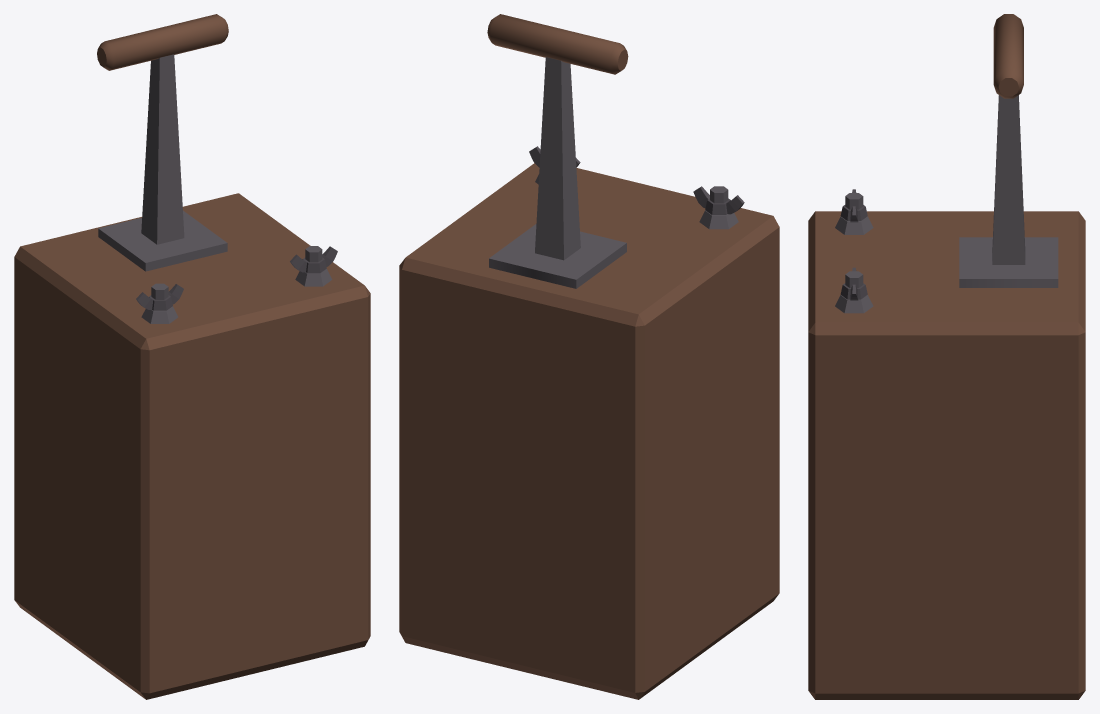
Rendered from e29727e5-f773-4399-8149-1229afd361a3.glb.
The picture shows the model from 3 angles, left to right: view 1: azimuth 30°, elevation 25°; view 2: azimuth 150°, elevation 25°; view 3: azimuth 270°, elevation 25°; orthographic projection. The views are drawn at different scales.
Visible parts, largest first — view 1: BlastingMachine; view 2: BlastingMachine; view 3: BlastingMachine.
Part boxes in pixels (x1=…): BlastingMachine: x1=14, y1=14, x2=370, y2=699; BlastingMachine: x1=399, y1=14, x2=779, y2=699; BlastingMachine: x1=808, y1=14, x2=1085, y2=699.
Size of what is drawn, in the model's own units: 0.2243 by 0.5367 by 0.2243.
Materials: 1 (1 with a texture image).
